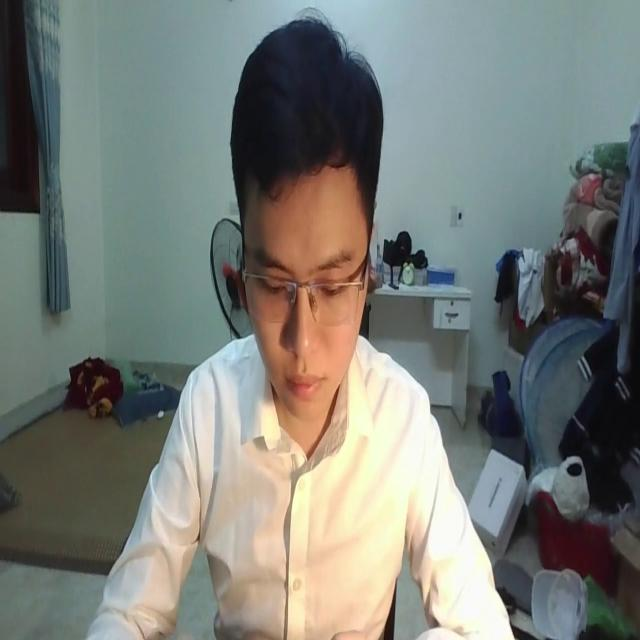student: (88, 6, 511, 640)
